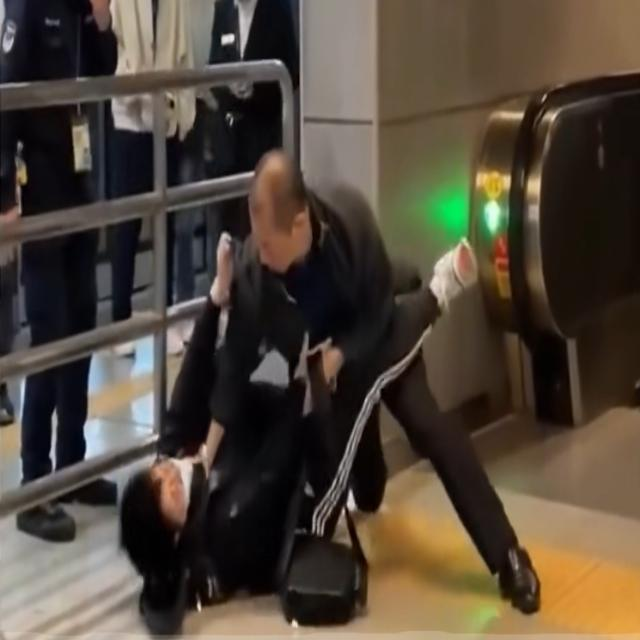fight: (114, 139, 401, 627)
nofight: (0, 0, 129, 549)
